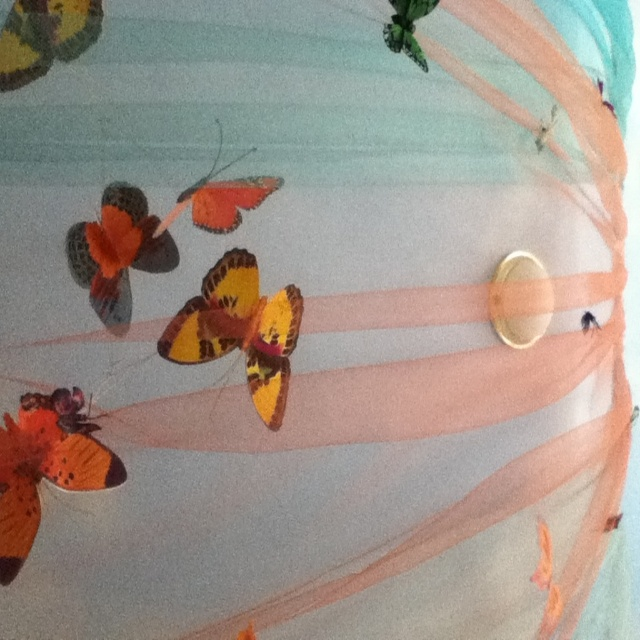Butterfly: (0, 382, 136, 600), (149, 236, 301, 418), (69, 171, 181, 347), (157, 110, 286, 245), (0, 0, 114, 92), (378, 0, 447, 76)
